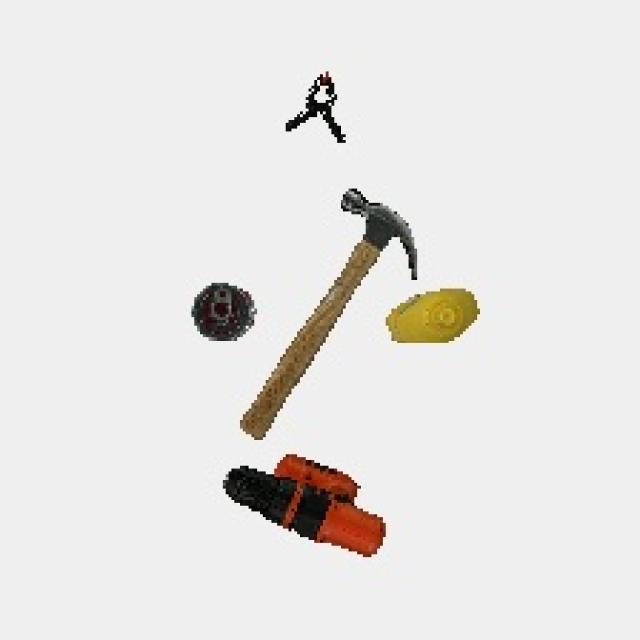MediumClamp: (278, 66, 355, 155)
MustardBottle: (376, 283, 496, 367)
PowerDrill: (220, 447, 412, 565)
TomatoSoupCan: (180, 279, 266, 352)
